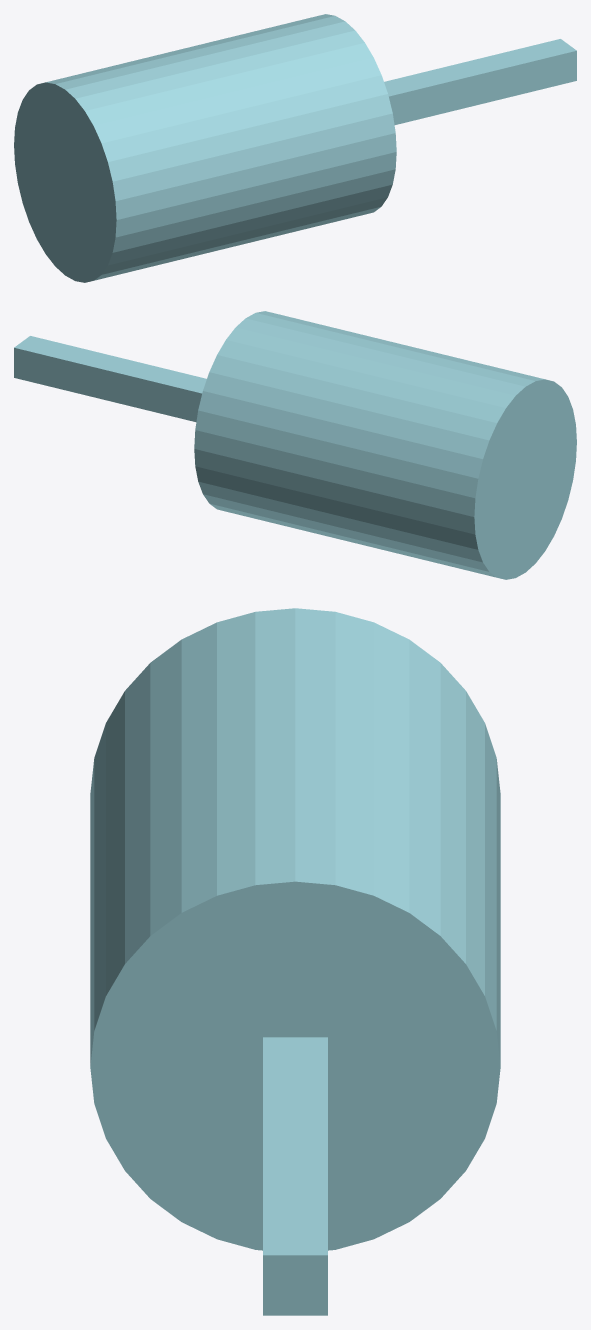
File: cylinder_screwdriver_v3016.obj
3 views of the same model, one above another, from view 1: azimuth 30°, elevation 25°; view 2: azimuth 150°, elevation 25°; view 3: azimuth 270°, elevation 25° (orthographic). The views are drawn at different scales.
Bounding box in the file's own units: 0.2066 × 0.0729 × 0.0729.
1 material, 1 textured.
